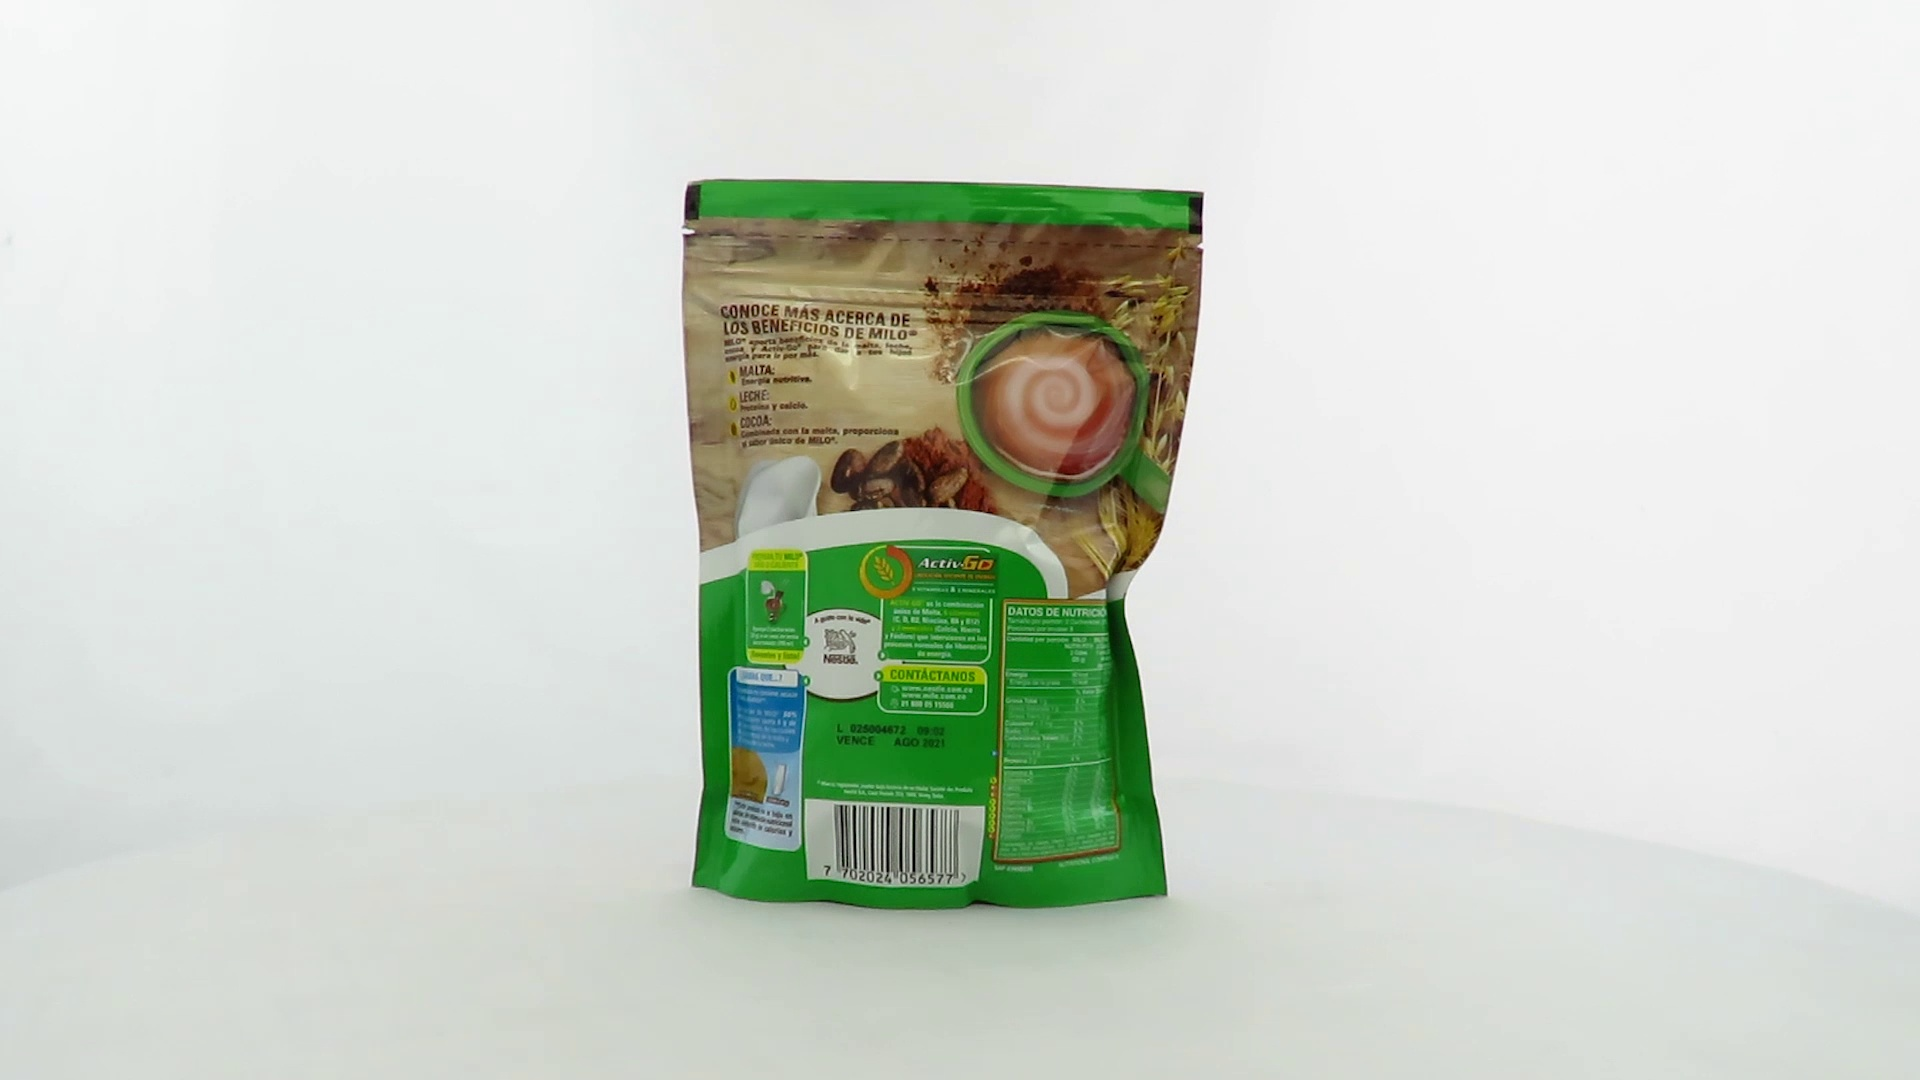COL0170205DYP20000: (676, 173, 1211, 916)
